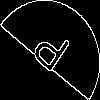P: (25, 25, 72, 82)
